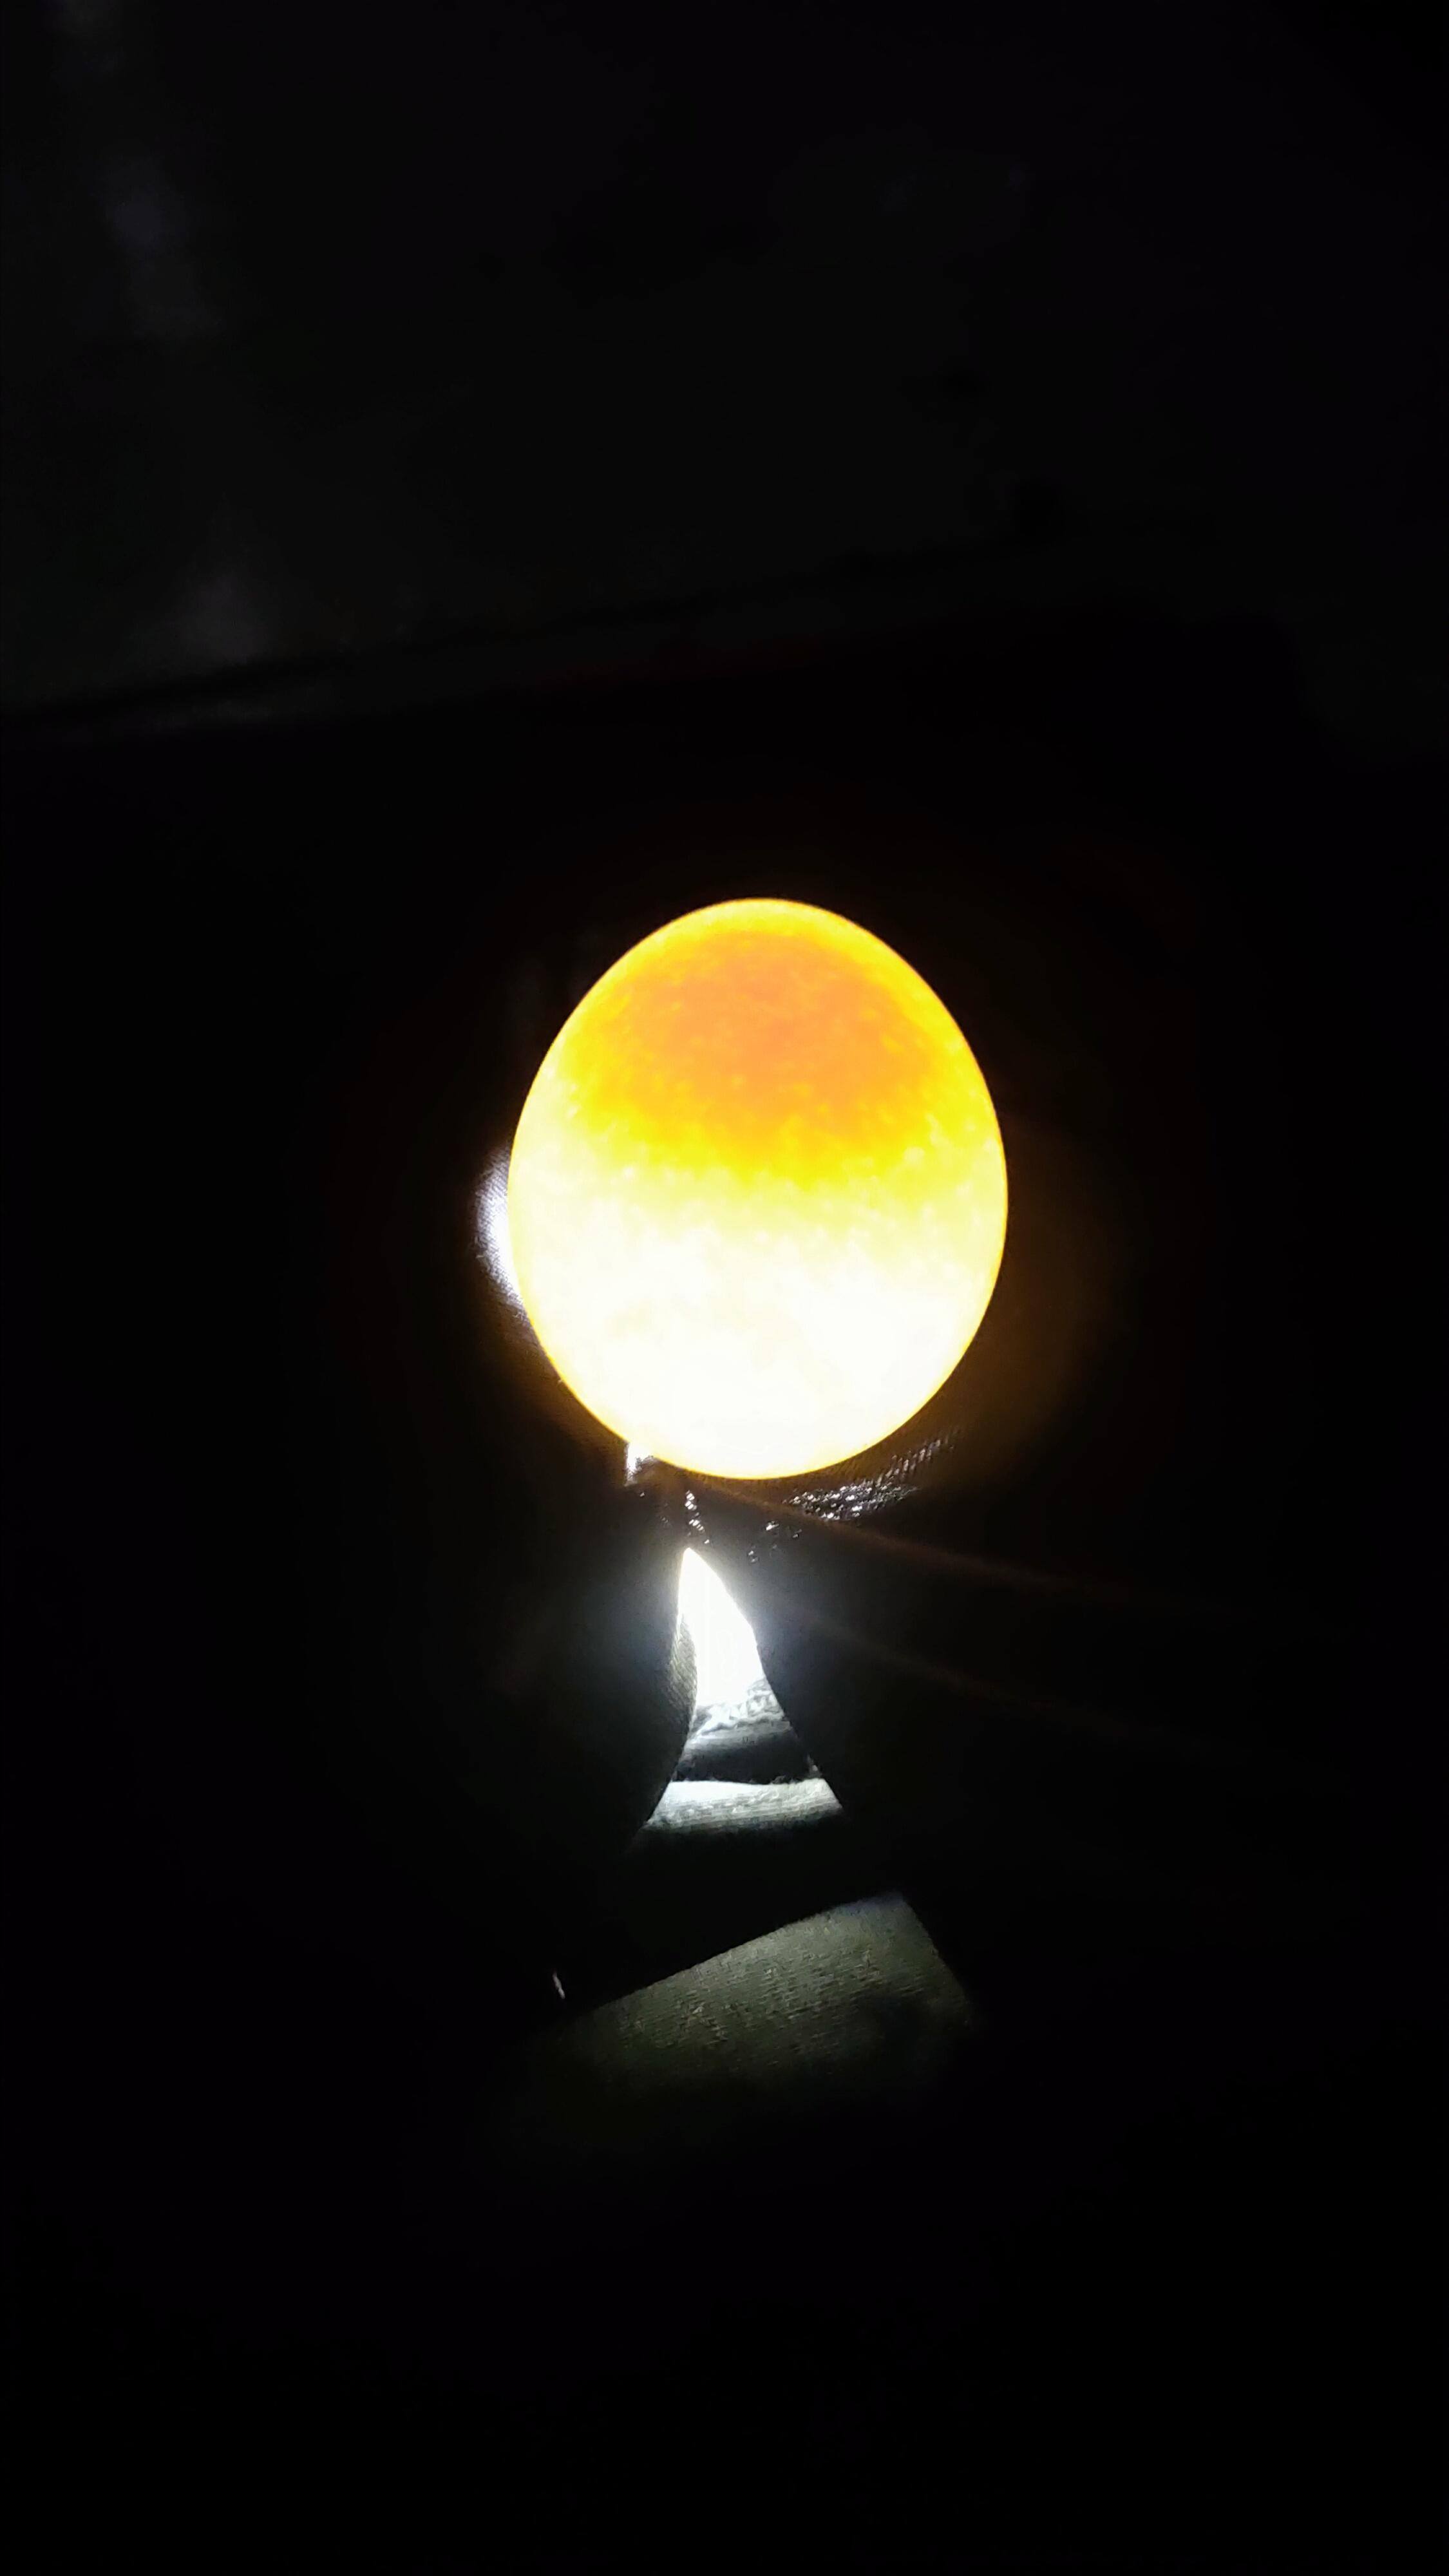Inedible: (471, 849, 1049, 1591)
